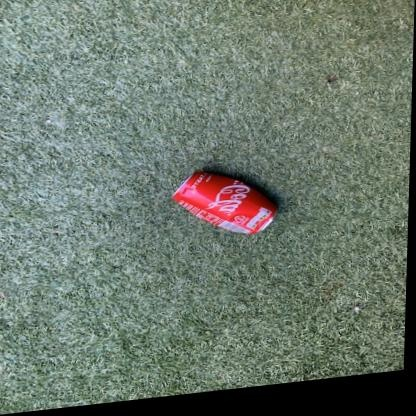trash: (172, 171, 276, 234)
